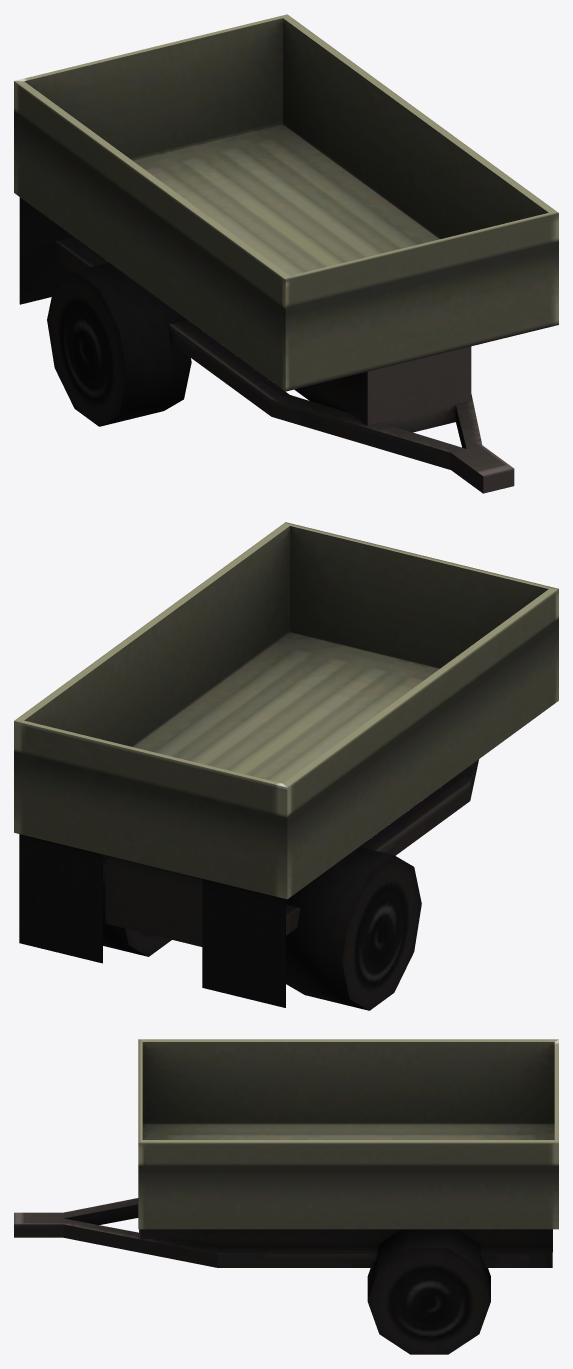
The model's file is Cargo_Trailer.DAE.
The picture shows the model from 3 angles, top to bottom: view 1: azimuth 30°, elevation 25°; view 2: azimuth 150°, elevation 25°; view 3: azimuth 270°, elevation 25°; orthographic projection. The views are drawn at different scales.
Visible parts, largest first — view 1: _1167_Cargo_Trailer; view 2: _1167_Cargo_Trailer; view 3: _1167_Cargo_Trailer.
Part boxes in pixels (x1,y1,x2,y2): _1167_Cargo_Trailer: (14,14,558,493); _1167_Cargo_Trailer: (14,522,558,1010); _1167_Cargo_Trailer: (14,1039,558,1354).
Size of the model in its own units: 65.43 by 59.73 by 140.
1 material, 1 textured.
